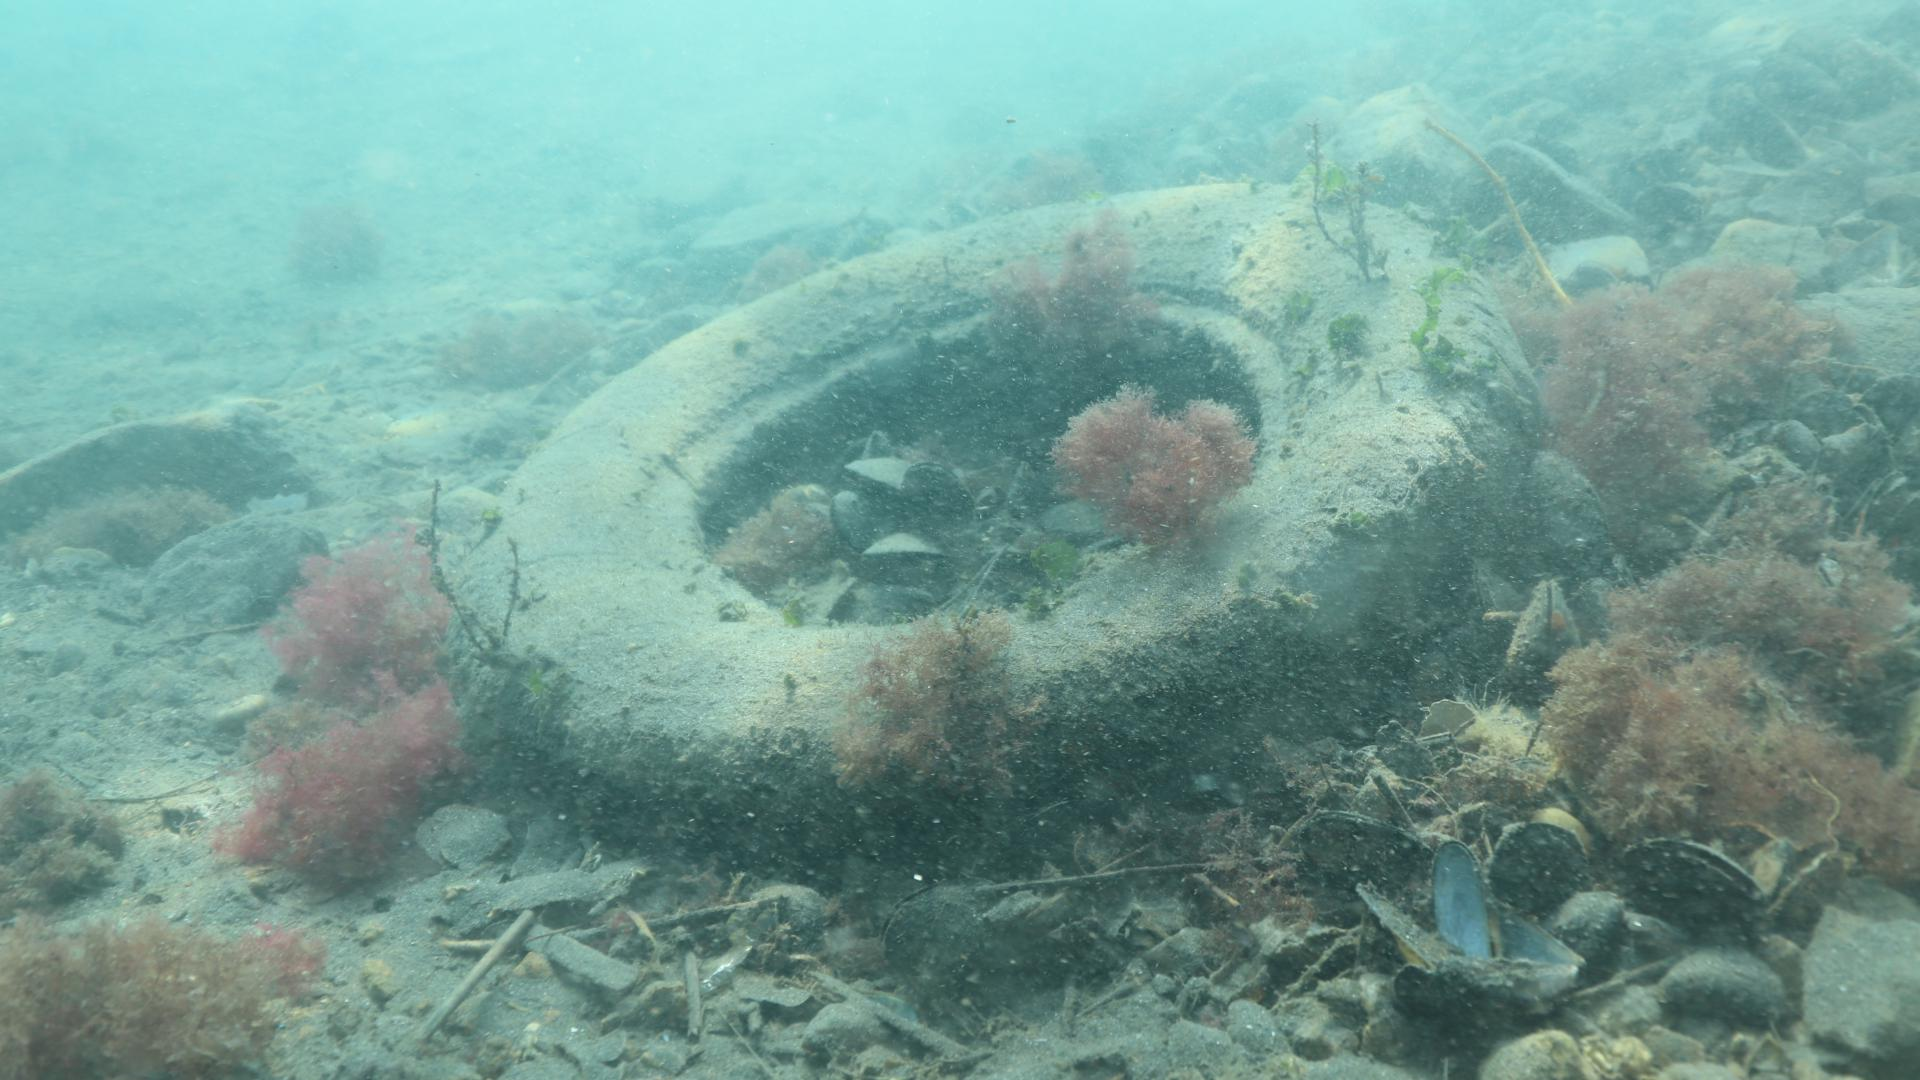tire: (454, 174, 1544, 868)
